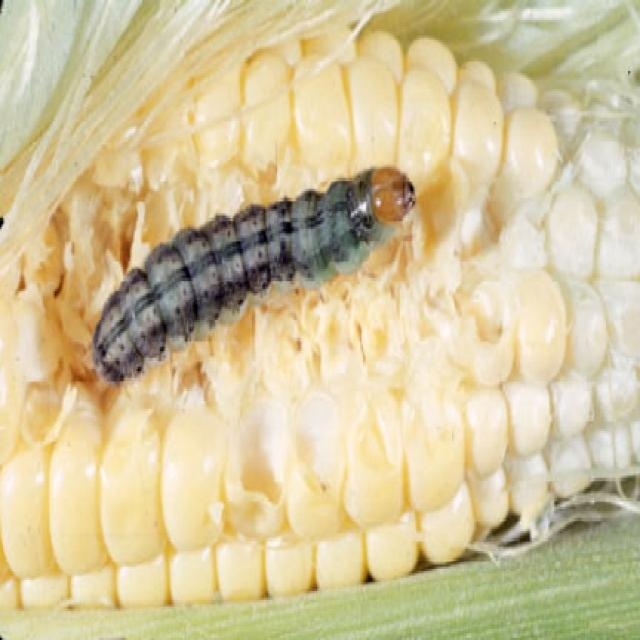Corn-earworm: (93, 169, 423, 398)
